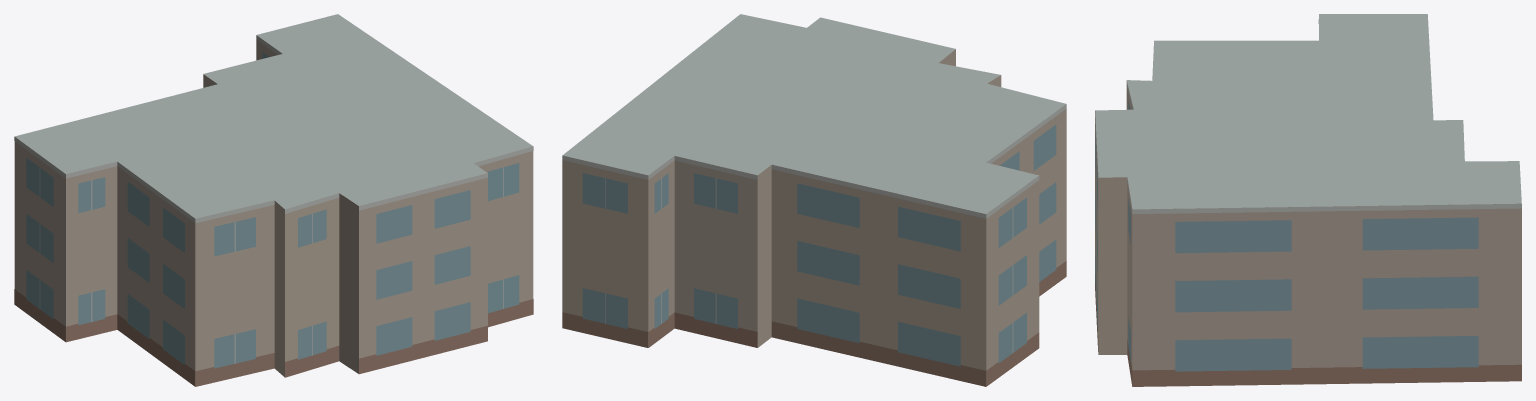
Rendered from survey-upis-32468905.glb.
3 views of the same model, side by side, from view 1: azimuth 30°, elevation 25°; view 2: azimuth 150°, elevation 25°; view 3: azimuth 270°, elevation 25° (orthographic). The views are drawn at different scales.
Visible parts, largest first — view 1: survey-upis-32468905.tmp; view 2: survey-upis-32468905.tmp; view 3: survey-upis-32468905.tmp.
Boxes of the visible parts, box(x1,y1,x2,y2) form: survey-upis-32468905.tmp: box(14, 14, 533, 386); survey-upis-32468905.tmp: box(562, 14, 1066, 386); survey-upis-32468905.tmp: box(1095, 14, 1521, 386).
Size of the model in its own units: 21.61 by 9.15 by 19.95.
